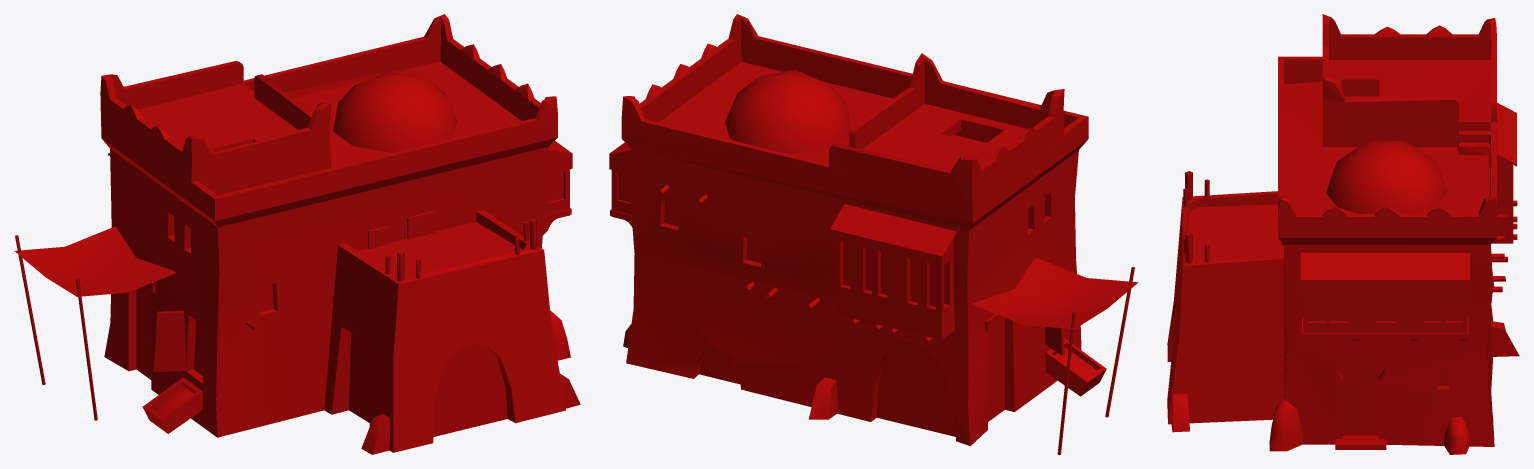
The model's file is harbor_01_orient_3_lod0.glb.
The picture shows the model from 3 angles, left to right: view 1: azimuth 30°, elevation 25°; view 2: azimuth 150°, elevation 25°; view 3: azimuth 270°, elevation 25°; orthographic projection. The views are drawn at different scales.
Visible parts, largest first — view 1: MODEL_harbor_01_colony_lod0; view 2: MODEL_harbor_01_colony_lod0; view 3: MODEL_harbor_01_colony_lod0.
Part boxes in pixels (x1,y1,x2,y2): MODEL_harbor_01_colony_lod0: (14, 14, 580, 454); MODEL_harbor_01_colony_lod0: (609, 14, 1138, 454); MODEL_harbor_01_colony_lod0: (1167, 14, 1519, 454).
Bounding box in the file's own units: 2.79 × 1.65 × 1.92.
